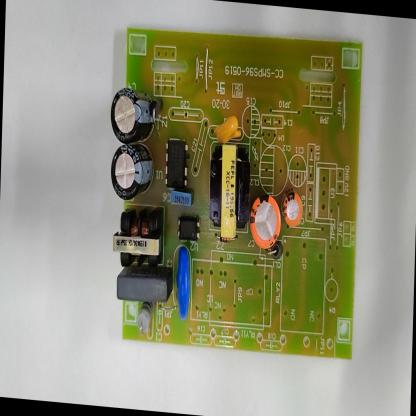Cap1: (248, 189, 282, 254)
Cap2: (281, 185, 305, 233)
Cap3: (107, 140, 156, 204)
Cap4: (108, 84, 156, 144)
MOSFET: (163, 134, 191, 192)
Mov: (173, 243, 194, 325)
Resistor: (134, 300, 154, 338)
Transformer: (206, 138, 252, 242), (110, 204, 164, 270)
